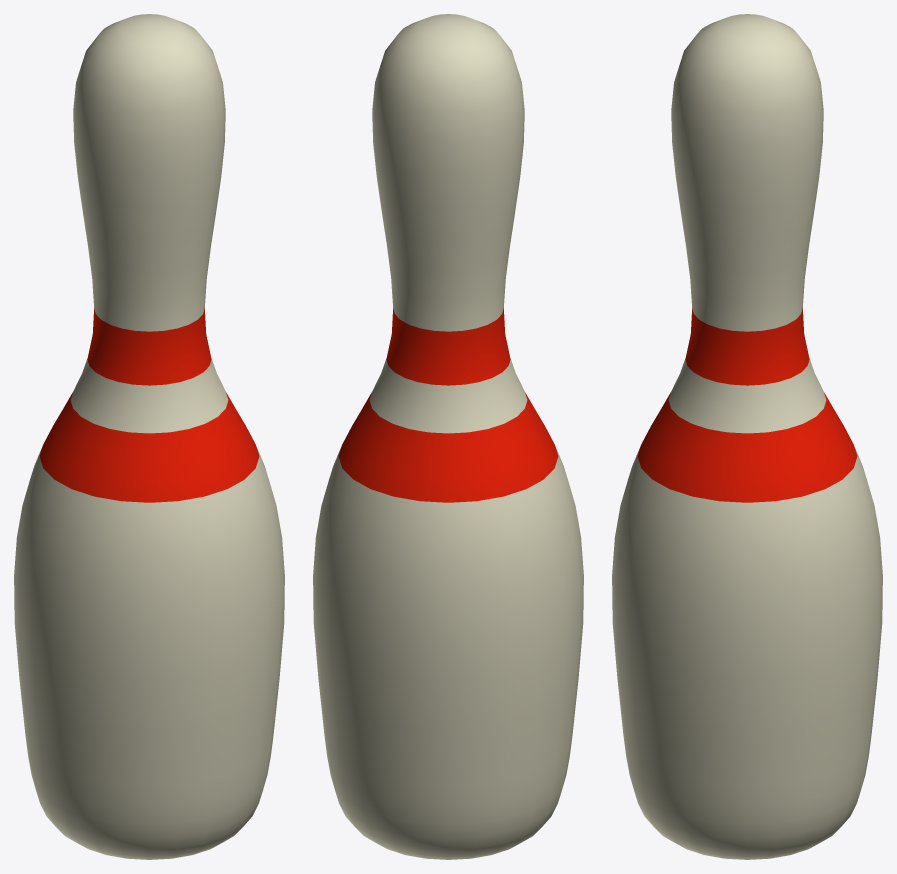
The model's file is pin.glb.
3 renders of one model, left to right at view 1: azimuth 30°, elevation 25°; view 2: azimuth 150°, elevation 25°; view 3: azimuth 270°, elevation 25°, orthographic.
Visible parts, largest first — view 1: Pin _0, Pin _1; view 2: Pin _0, Pin _1; view 3: Pin _0, Pin _1.
Boxes of the visible parts, bbox=[...] form: Pin _0: bbox=[14, 14, 284, 859]; Pin _1: bbox=[39, 308, 259, 502]; Pin _0: bbox=[313, 14, 583, 859]; Pin _1: bbox=[338, 308, 558, 502]; Pin _0: bbox=[612, 14, 882, 859]; Pin _1: bbox=[637, 308, 857, 502].
Bounding box in the file's own units: 0.1903 × 0.6311 × 0.1903.
